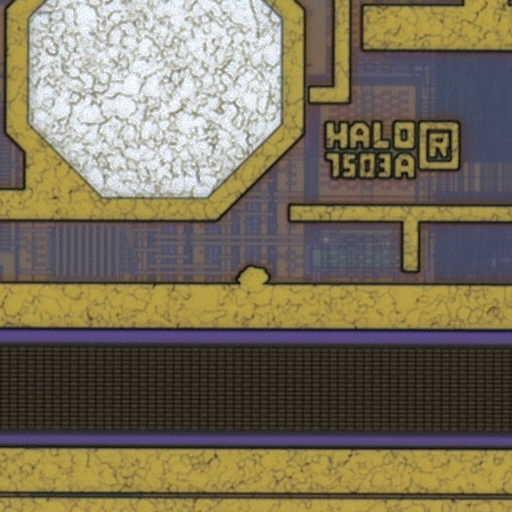BLOCK ETCH: (234, 259, 274, 299)
